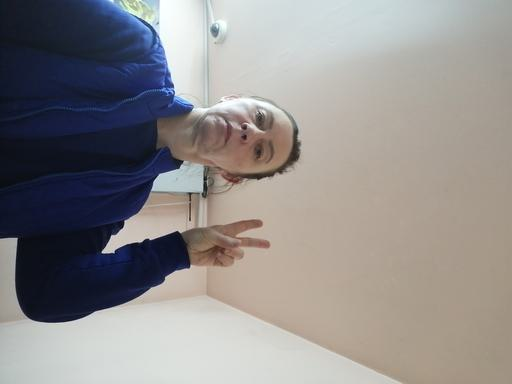peace: (182, 217, 273, 269)
